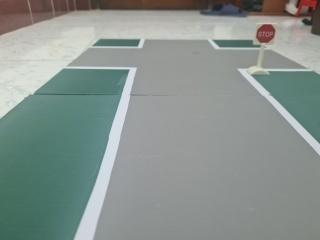stop: (249, 20, 277, 47)
